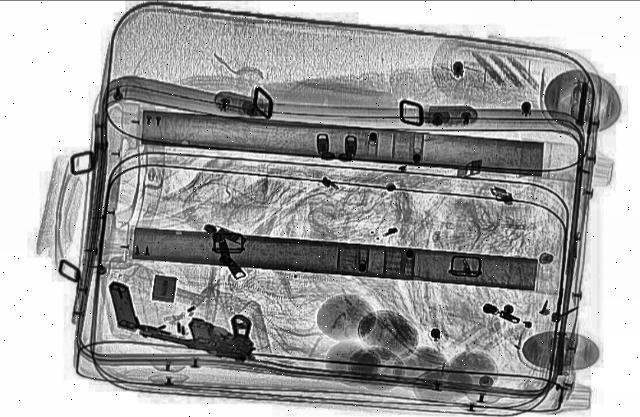Gun: (136, 297, 278, 365)
